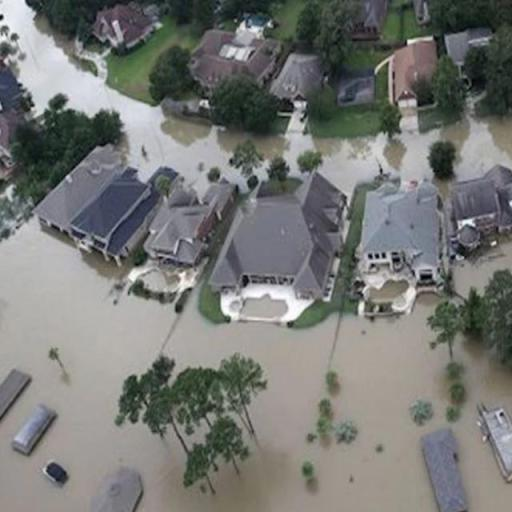flood: (0, 218, 512, 512), (0, 0, 512, 197), (454, 236, 512, 297), (177, 421, 210, 448), (205, 413, 216, 426)
house: (30, 135, 171, 267), (226, 175, 340, 310), (356, 178, 446, 298), (142, 179, 237, 273), (186, 10, 280, 92), (382, 36, 442, 117), (416, 425, 471, 512), (452, 160, 512, 239), (90, 4, 156, 53), (84, 463, 143, 512), (478, 400, 512, 482), (275, 54, 324, 98), (0, 368, 31, 428)
